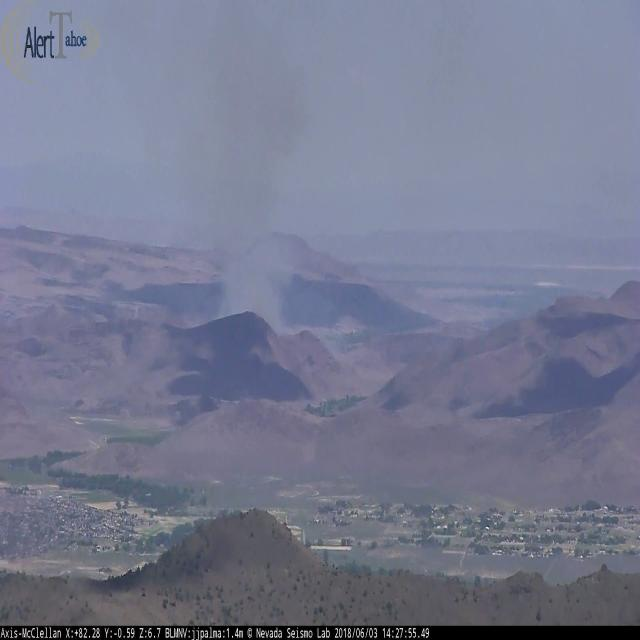smoke: (211, 26, 295, 336)
